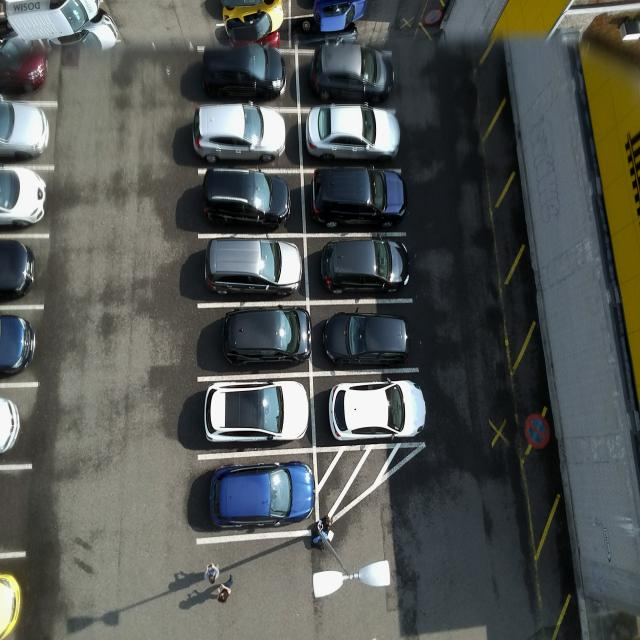car: (208, 459, 318, 531), (204, 380, 314, 445), (326, 377, 430, 442), (203, 235, 306, 299), (190, 101, 291, 165), (320, 310, 429, 367), (198, 168, 299, 229), (221, 307, 315, 370), (304, 102, 407, 159), (314, 168, 413, 227), (316, 239, 417, 292), (305, 44, 400, 100), (198, 42, 290, 97)
